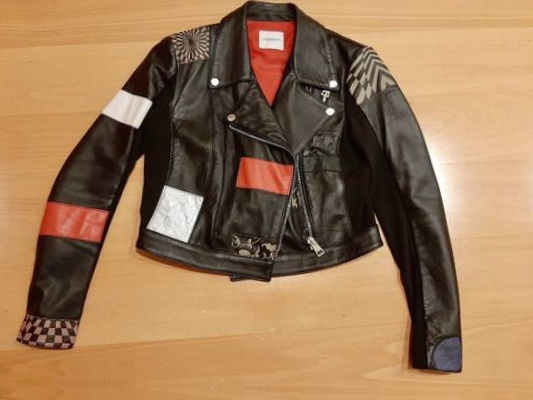Blazer: (1, 0, 487, 388), (0, 388, 476, 400)
